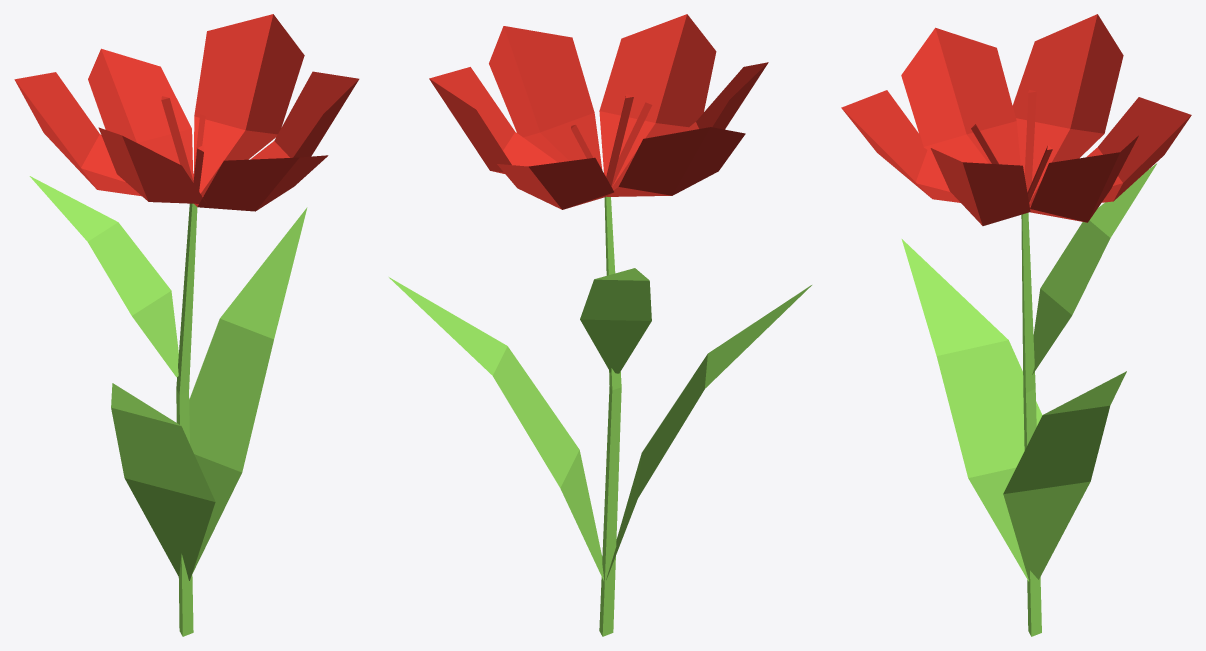
File: redflower.fbx
3 renders of one model, left to right at view 1: azimuth 30°, elevation 25°; view 2: azimuth 150°, elevation 25°; view 3: azimuth 270°, elevation 25°, orthographic.
Parts seen in each view (by area): view 1: red Flower; view 2: red Flower; view 3: red Flower.
Boxes of the visible parts, <box> form: red Flower: <box>14,14,359,636</box>; red Flower: <box>389,14,811,636</box>; red Flower: <box>841,14,1191,636</box>.
Bounding box in the file's own units: 0.2893 × 0.5018 × 0.2882.
